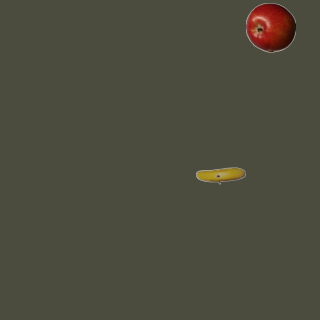Apple Braeburn: (245, 2, 295, 52)
Banana: (195, 150, 245, 200)
